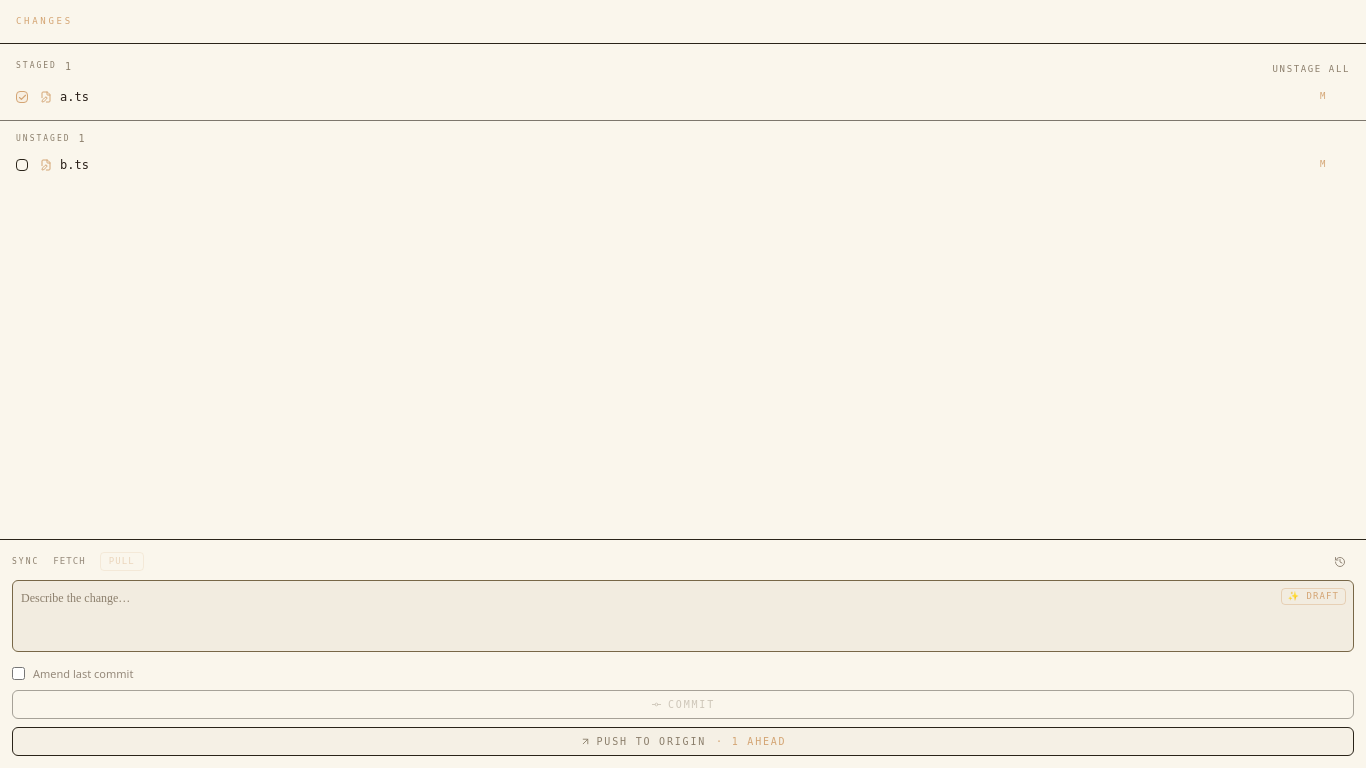
Test: ChangesPanel — Open a pull request › looks the PR up right after publishing
Click the button "Push to origin · 1 ahead". click: x=683, y=742
box: [12,727,1354,756]
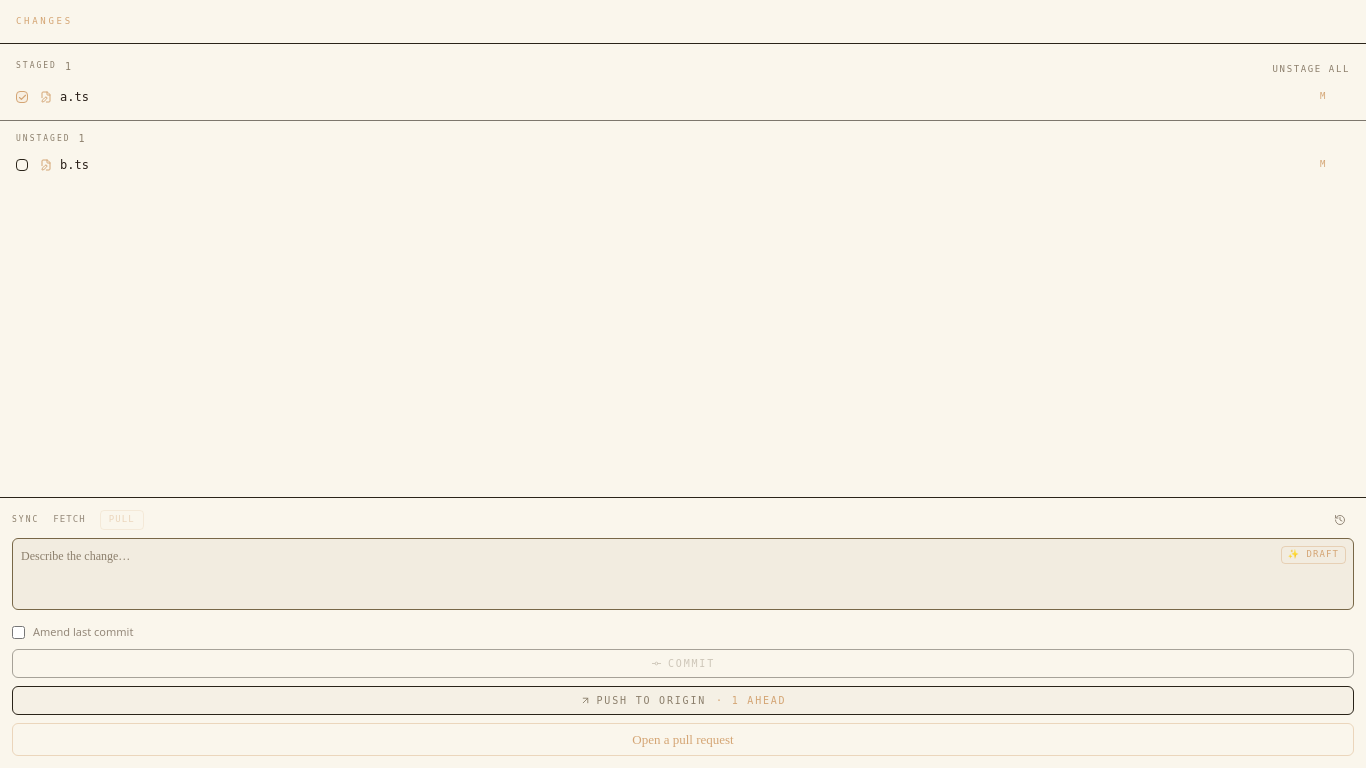
expect the button "Open a pull request" is shown: met, box [12,722,1354,756]
